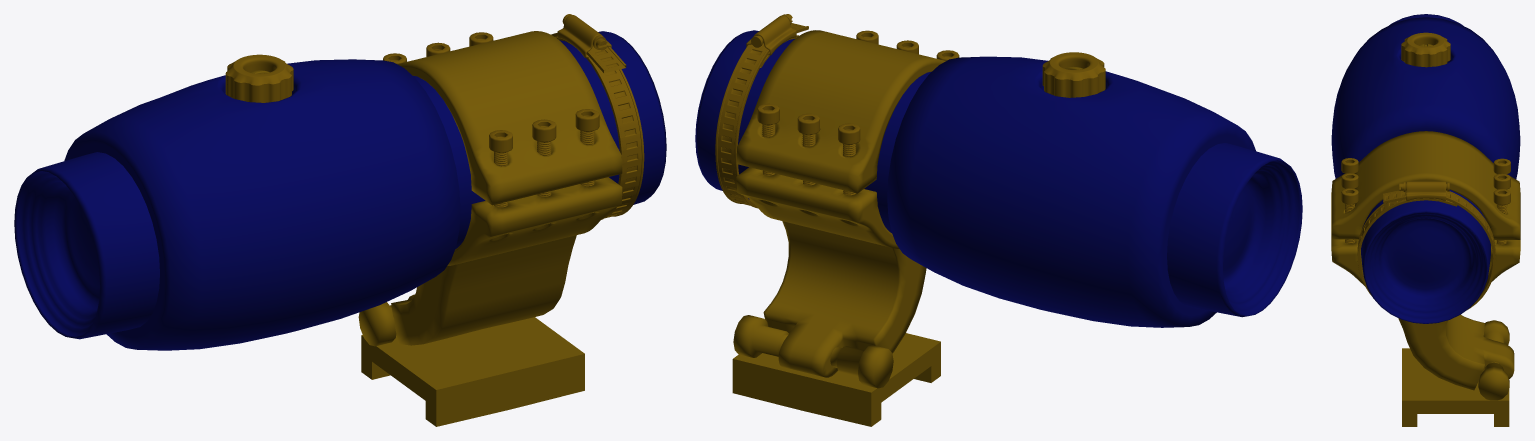
The model's file is scope_04.fbx.
3 views of the same model, side by side, from view 1: azimuth 30°, elevation 25°; view 2: azimuth 150°, elevation 25°; view 3: azimuth 270°, elevation 25° (orthographic). The views are drawn at different scales.
Parts seen in each view (by area): view 1: AK47.021; view 2: AK47.021; view 3: AK47.021.
Boxes of the visible parts, x1,y1,x2,y2 form: AK47.021: (14, 14, 666, 426); AK47.021: (695, 14, 1302, 426); AK47.021: (1331, 14, 1520, 426).
Size of the model in its own units: 39.7 by 26.02 by 16.01.
